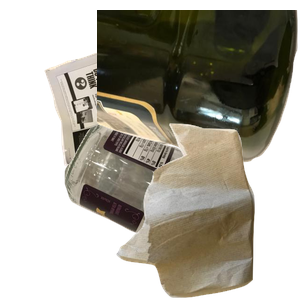glass: (62, 120, 300, 300)
paper: (42, 21, 249, 181)
plastic: (97, 10, 300, 165)
trash: (114, 121, 300, 300)
